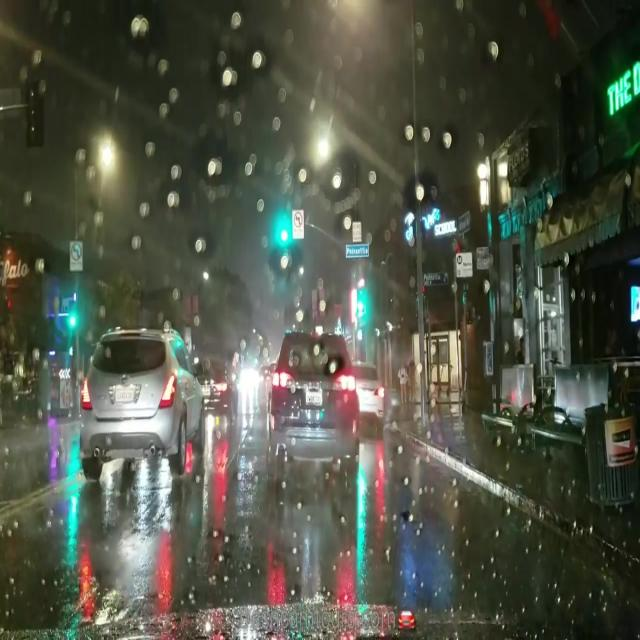Car: (74, 329, 205, 471), (272, 330, 356, 463), (199, 362, 238, 422), (353, 360, 382, 440)
